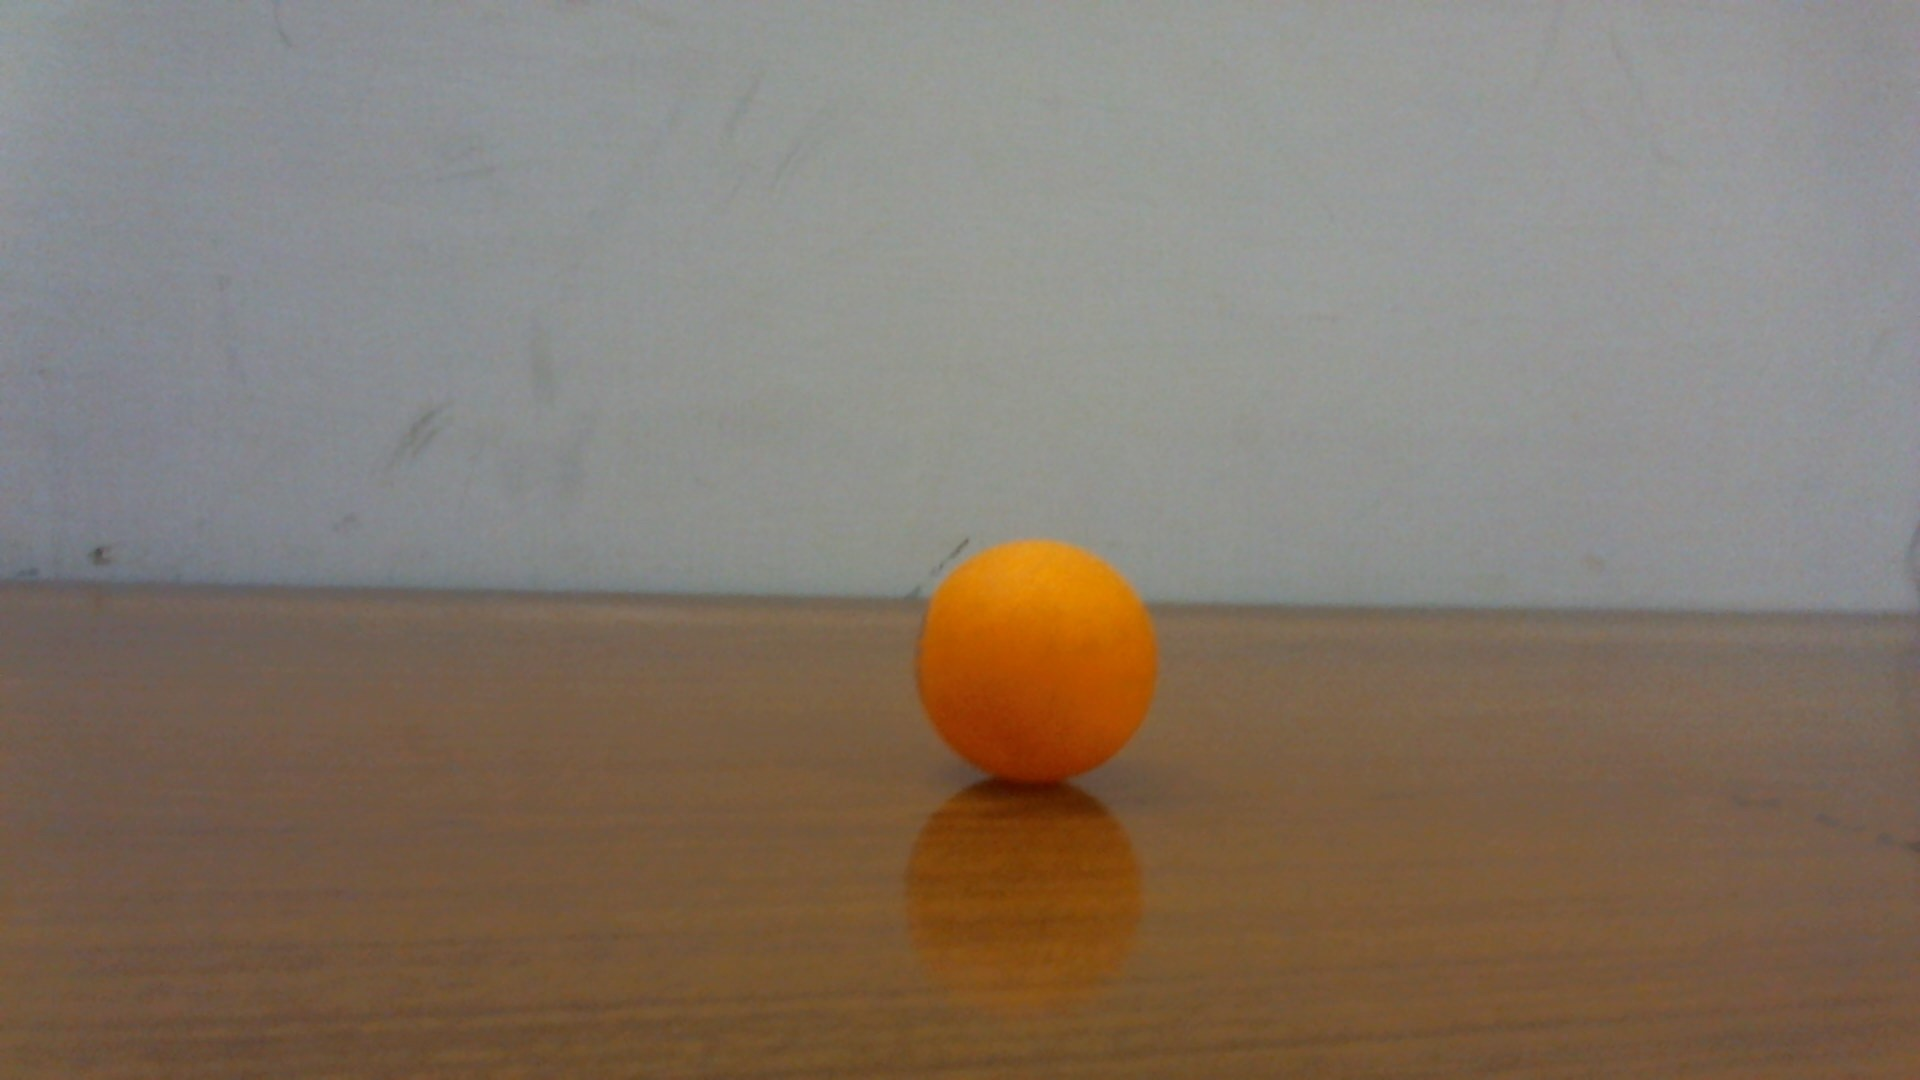ball: (913, 538, 1162, 783)
